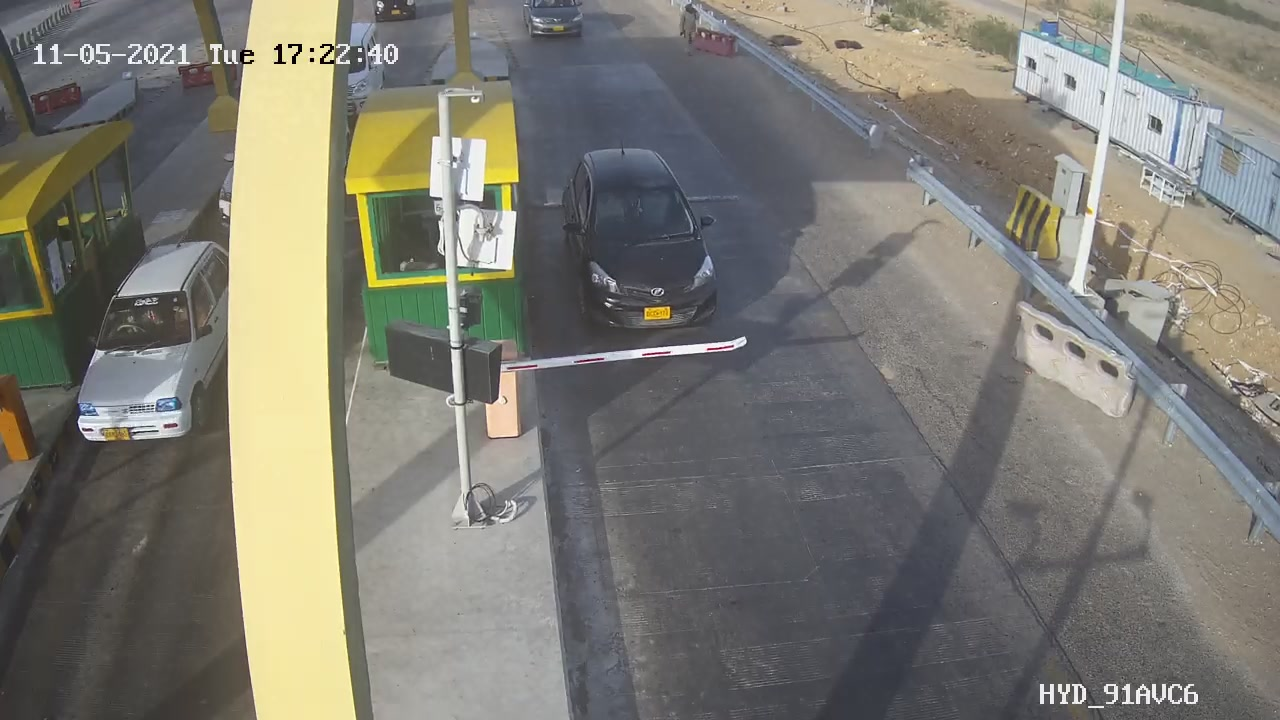F1: (539, 133, 743, 352)
